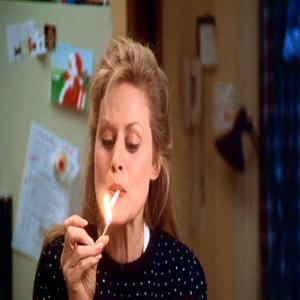cigarette: (107, 189, 120, 210)
